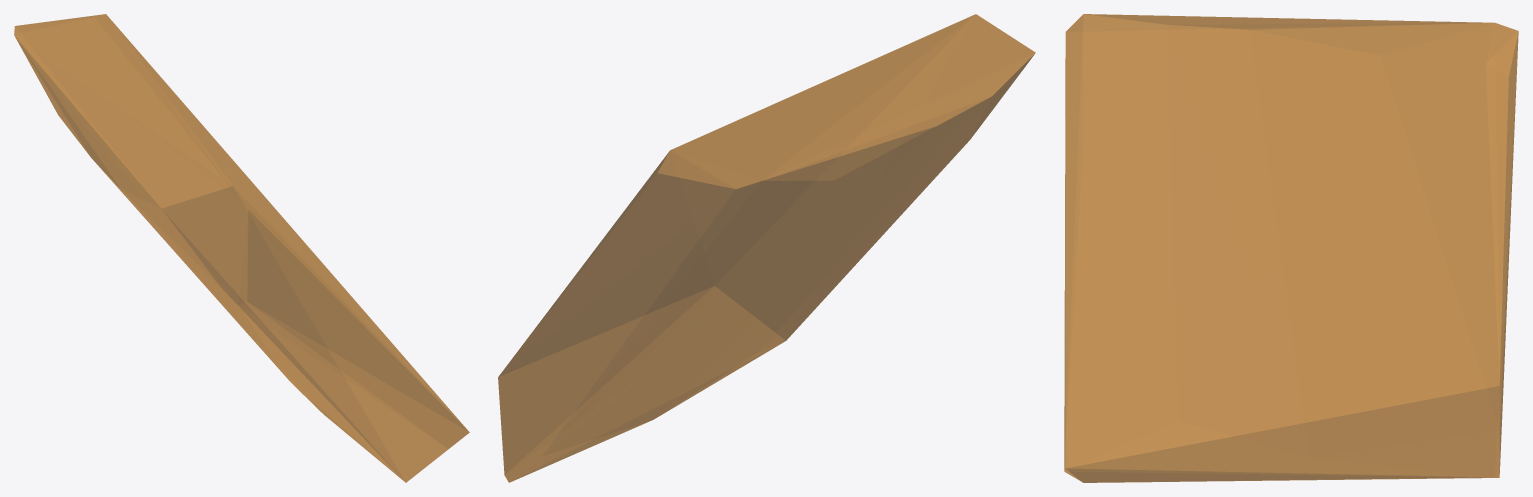
3 views of the same model, side by side, from view 1: azimuth 30°, elevation 25°; view 2: azimuth 150°, elevation 25°; view 3: azimuth 270°, elevation 25° (orthographic). The views are drawn at different scales.
Parts seen in each view (by area): view 1: Shape_IndexedFaceSet.011_Shape_IndexedFaceSet.4765; view 2: Shape_IndexedFaceSet.011_Shape_IndexedFaceSet.4765; view 3: Shape_IndexedFaceSet.011_Shape_IndexedFaceSet.4765.
Part boxes in pixels (bbox=[...]): Shape_IndexedFaceSet.011_Shape_IndexedFaceSet.4765: bbox=[14, 14, 469, 482]; Shape_IndexedFaceSet.011_Shape_IndexedFaceSet.4765: bbox=[498, 14, 1035, 482]; Shape_IndexedFaceSet.011_Shape_IndexedFaceSet.4765: bbox=[1064, 14, 1518, 482].
Size of the model in its own units: 0.2372 by 0.2606 by 0.2994.
